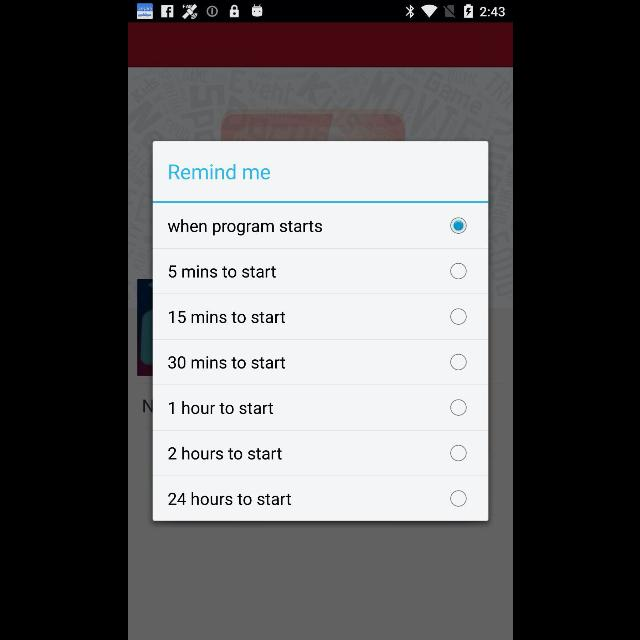checkbox: (450, 217, 466, 233), (450, 263, 466, 279), (450, 309, 466, 325), (450, 354, 466, 370), (450, 399, 466, 415), (450, 445, 466, 461), (450, 491, 466, 507)
panel: (152, 142, 488, 520)
text: (166, 220, 322, 237), (167, 492, 291, 506), (168, 310, 284, 324), (169, 164, 269, 180), (167, 446, 281, 460), (167, 356, 285, 369), (168, 266, 276, 278), (168, 402, 272, 414)
uppertaskbar: (128, 1, 512, 23)
